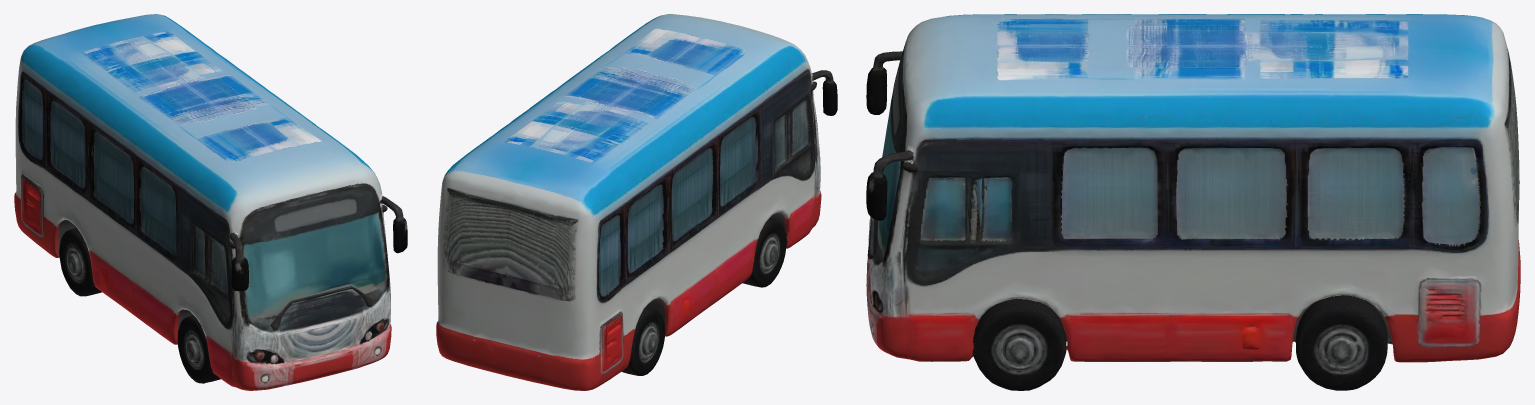
Rendered from bb_bus.glb.
3 views of the same model, side by side, from view 1: azimuth 30°, elevation 25°; view 2: azimuth 150°, elevation 25°; view 3: azimuth 270°, elevation 25° (orthographic). The views are drawn at different scales.
Size of the model in its own units: 0.4179 by 0.5025 by 1.
1 material, 1 textured.
